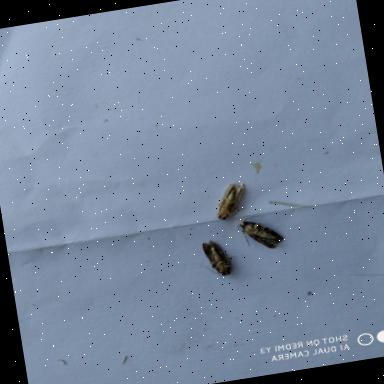pbw: (232, 210, 292, 257), (187, 234, 240, 282), (202, 176, 255, 224)
